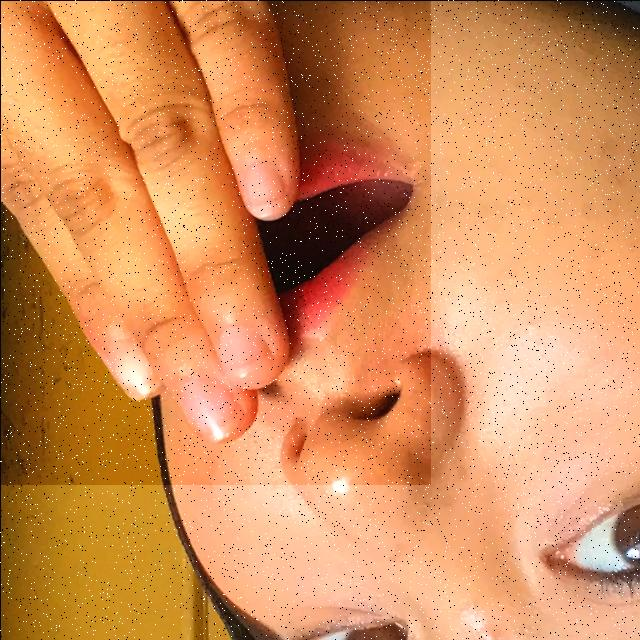ngantuk: (0, 0, 430, 484)
